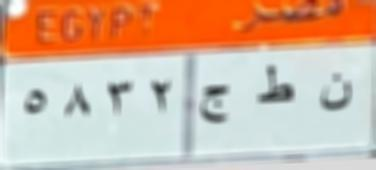2: (147, 73, 176, 116)
3: (106, 74, 136, 118)
5: (19, 86, 50, 118)
8: (60, 78, 96, 124)
Taa: (258, 62, 296, 109)
jeem: (195, 77, 232, 128)
noon: (314, 68, 354, 115)
